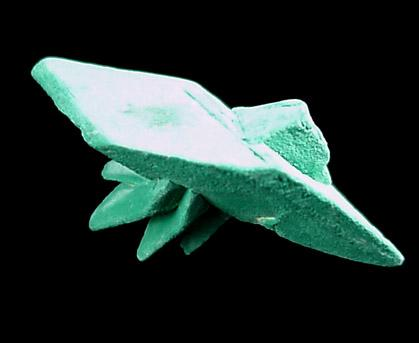calcite: (32, 57, 405, 266)
